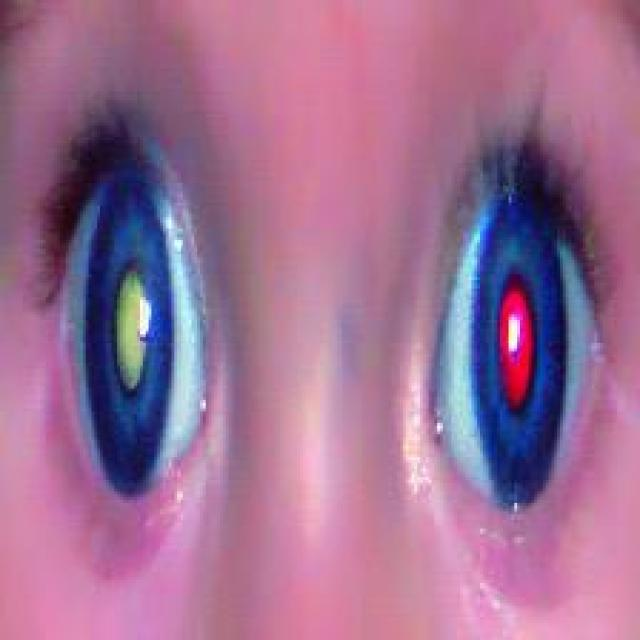reflexo-alterado: (48, 135, 226, 487)
reflexo-normal: (430, 130, 594, 516)
